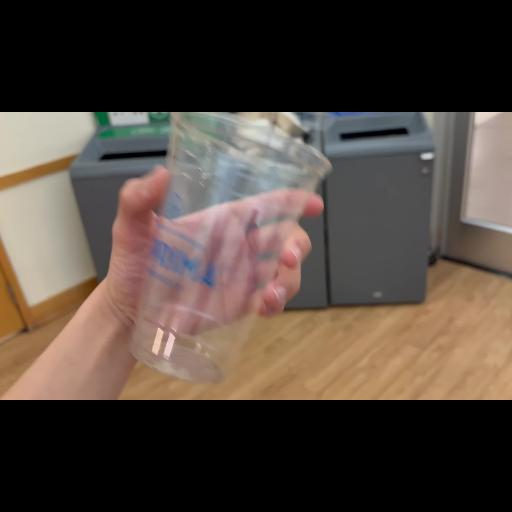lp_plastic_cup: (131, 116, 325, 382)
